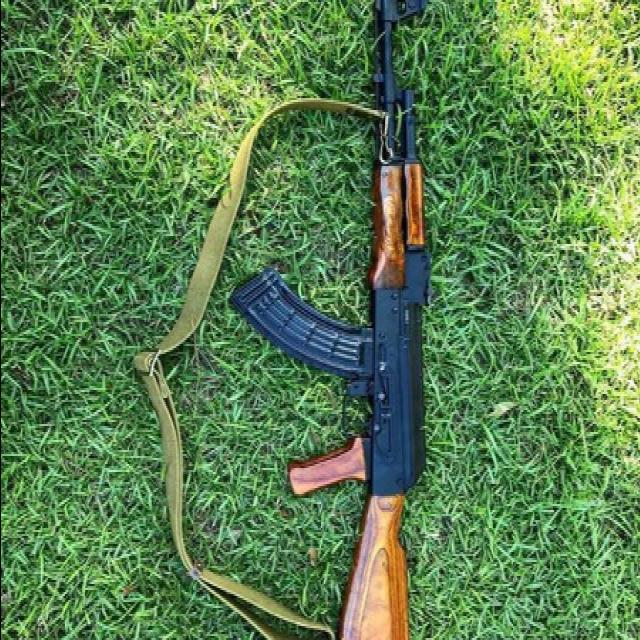rifle: (235, 3, 451, 639)
